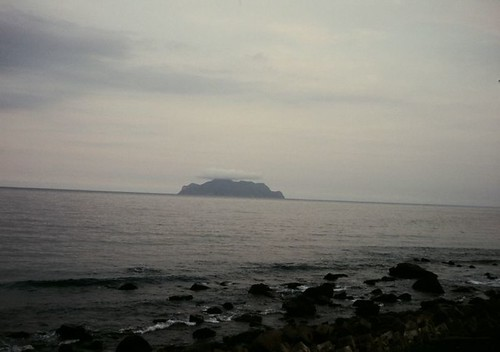turtleIslandLeft: (178, 176, 282, 198)
